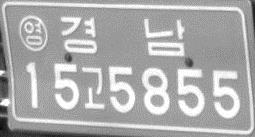1: (22, 61, 43, 111)
5: (210, 68, 241, 120), (175, 68, 206, 116), (52, 61, 80, 110), (108, 65, 136, 114)
8: (140, 67, 171, 116)
경남_D: (59, 15, 187, 60)
고: (79, 65, 106, 109)
영: (17, 15, 49, 53)
